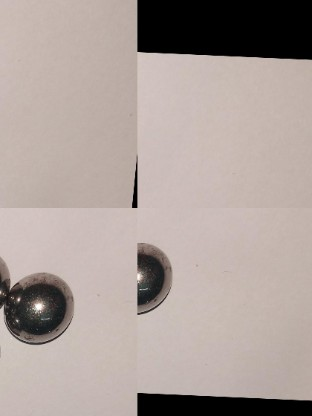ironball: (2, 269, 83, 346), (136, 236, 173, 317)
